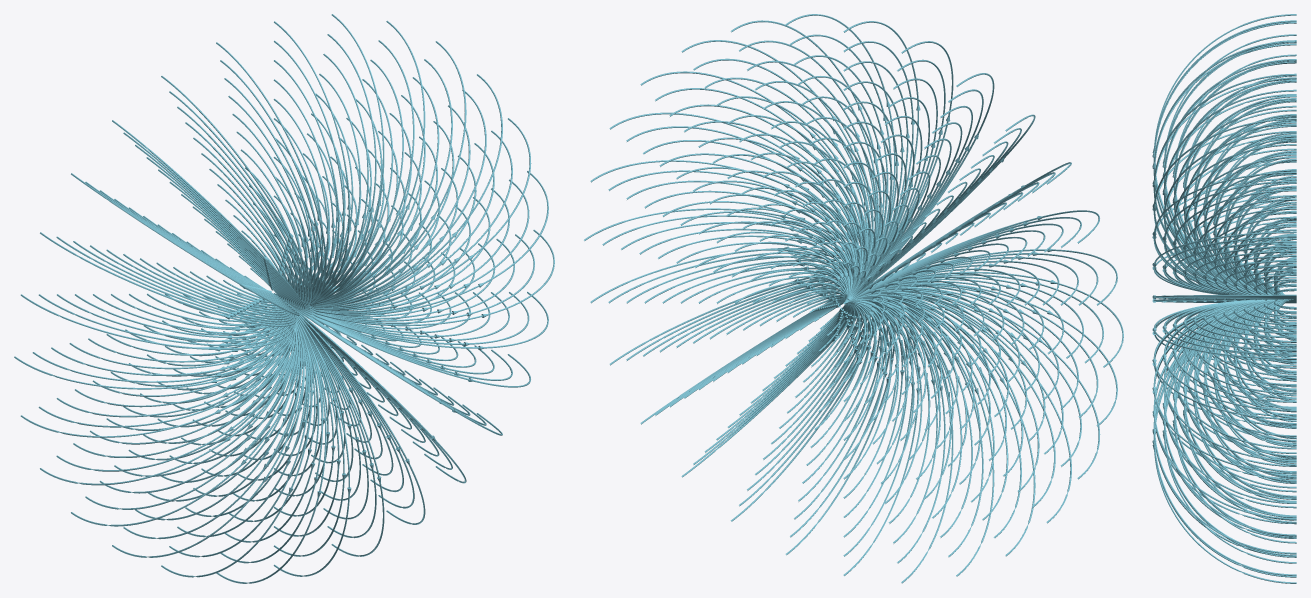
File: Electromagnetic-Induction-3D.glb
The picture shows the model from 3 angles, left to right: view 1: azimuth 30°, elevation 25°; view 2: azimuth 150°, elevation 25°; view 3: azimuth 270°, elevation 25°; orthographic projection. The views are drawn at different scales.
Parts seen in each view (by area): view 1: world; view 2: world; view 3: world.
Part boxes in pixels (x1,y1,x2,y2): world: (14, 14, 554, 583); world: (584, 14, 1123, 583); world: (1152, 14, 1296, 583).
Size of the model in its own units: 4.41 by 4.41 by 1.12.
